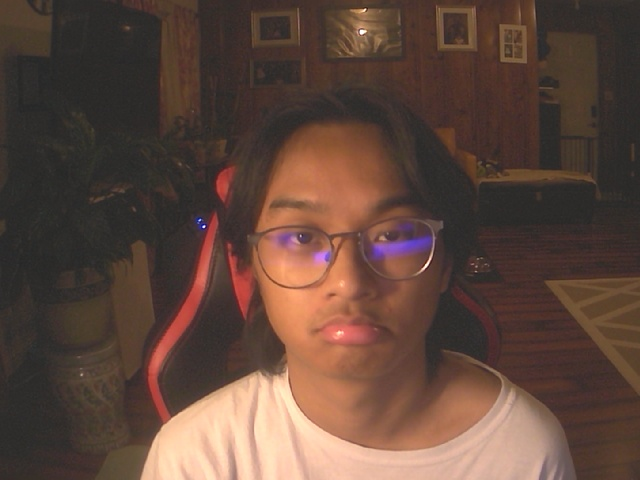sad: (225, 79, 476, 383)
